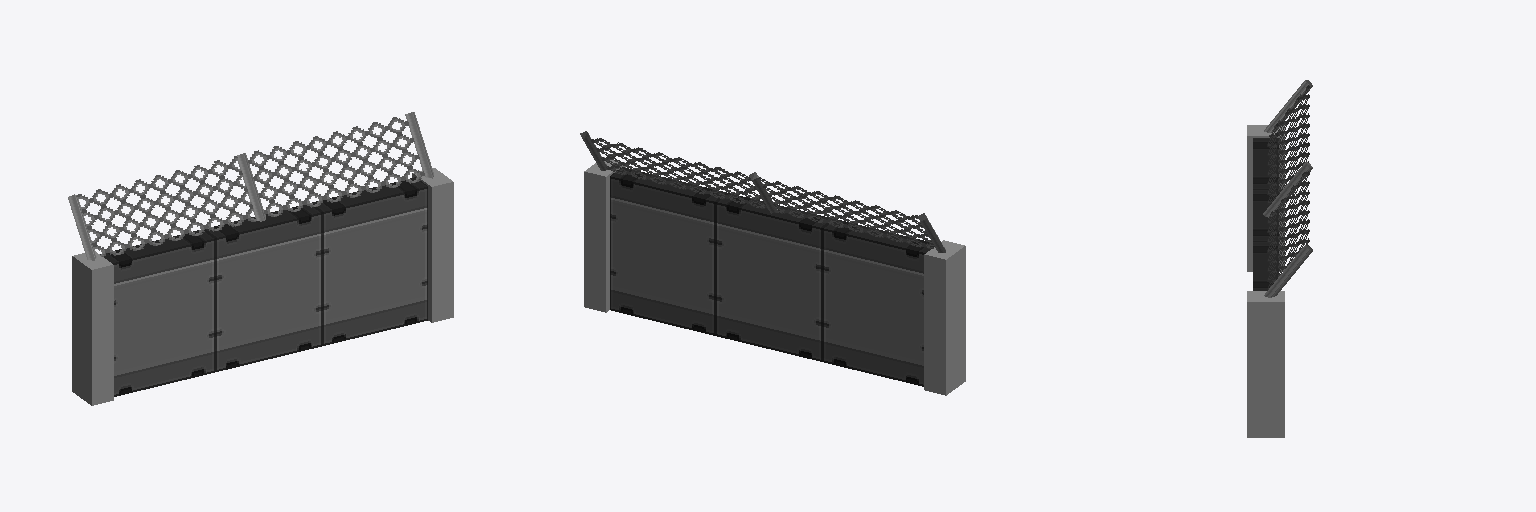
3 views of the same model, side by side, from view 1: azimuth 30°, elevation 25°; view 2: azimuth 150°, elevation 25°; view 3: azimuth 270°, elevation 25° (orthographic).
Parts seen in each view (by area): view 1: Gate.002_Mesh.017, Gate_Mesh.004, Gate.003_Mesh.018, Gate.001_Mesh.016; view 2: Gate.002_Mesh.017, Gate.003_Mesh.018, Gate_Mesh.004, Gate.001_Mesh.016; view 3: Gate.003_Mesh.018, Gate_Mesh.004, Gate.002_Mesh.017, Gate.001_Mesh.016.
Boxes of the visible parts, box(x1,y1,x2,y2) form: Gate.002_Mesh.017: box(100, 177, 427, 396); Gate_Mesh.004: box(77, 117, 424, 256); Gate.003_Mesh.018: box(72, 168, 453, 405); Gate.001_Mesh.016: box(68, 112, 433, 260); Gate.002_Mesh.017: box(610, 167, 934, 386); Gate.003_Mesh.018: box(584, 157, 965, 395); Gate_Mesh.004: box(591, 138, 933, 248); Gate.001_Mesh.016: box(580, 131, 945, 252); Gate.003_Mesh.018: box(1247, 125, 1284, 437); Gate_Mesh.004: box(1267, 85, 1309, 290); Gate.002_Mesh.017: box(1253, 138, 1278, 290); Gate.001_Mesh.016: box(1263, 80, 1312, 297).
Bounding box in the file's own units: 1.49 × 0.735 × 0.2381.
4 materials, 3 textured.